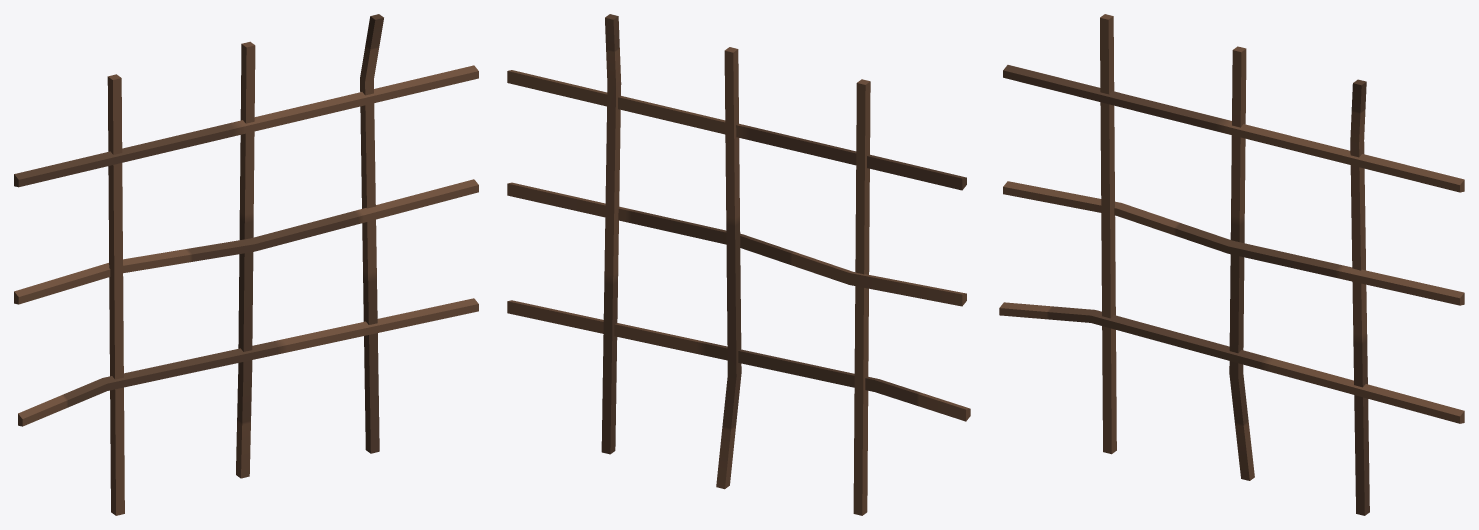
Rendered from SM_Bld_ConcreteRebar_Wall_05.fbx.
3 renders of one model, left to right at view 1: azimuth 30°, elevation 25°; view 2: azimuth 150°, elevation 25°; view 3: azimuth 330°, elevation 25°, orthographic.
Visible parts, largest first — view 1: SM_Bld_ConcreteRebar_Wall_05; view 2: SM_Bld_ConcreteRebar_Wall_05; view 3: SM_Bld_ConcreteRebar_Wall_05.
Part boxes in pixels (x1=…): SM_Bld_ConcreteRebar_Wall_05: x1=14, y1=14, x2=478, y2=515; SM_Bld_ConcreteRebar_Wall_05: x1=507, y1=14, x2=970, y2=515; SM_Bld_ConcreteRebar_Wall_05: x1=999, y1=14, x2=1464, y2=515.
Bounding box in the file's own units: 128 × 116 × 8.95.
